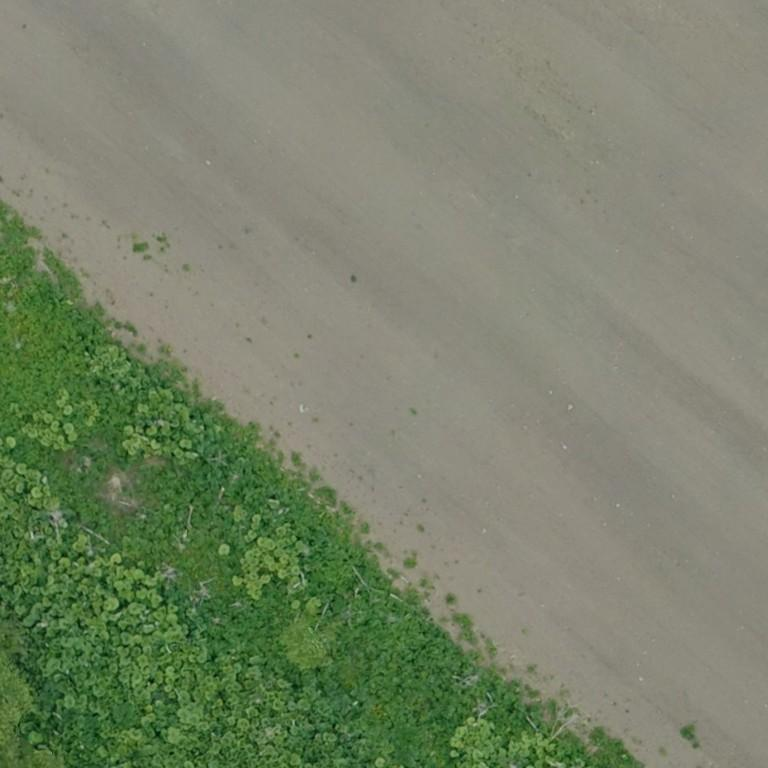hogweed: (129, 429, 531, 767)
